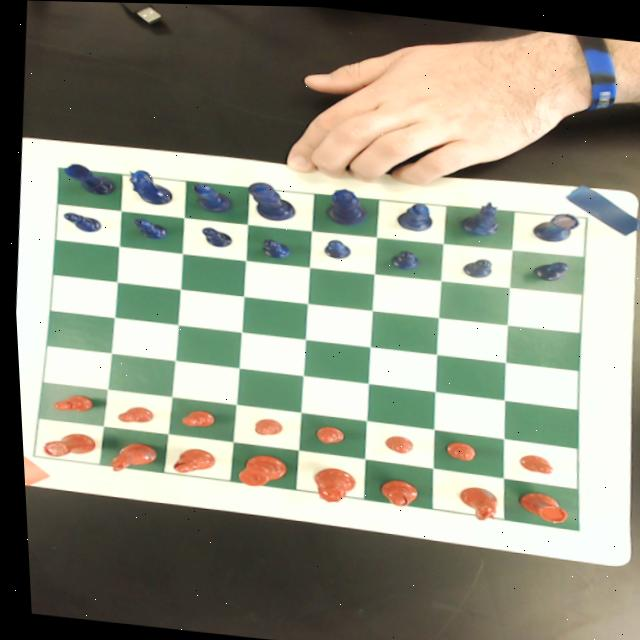B: (391, 197, 432, 230), (189, 179, 230, 211)
K: (243, 179, 295, 221)
N: (123, 166, 173, 205), (454, 195, 502, 235)
P: (528, 254, 569, 280), (57, 209, 101, 233), (456, 252, 493, 277), (127, 215, 167, 238), (384, 245, 419, 269), (197, 224, 232, 246), (317, 235, 350, 258), (257, 235, 289, 258)
Q: (321, 183, 367, 225)
R: (59, 160, 113, 195), (528, 206, 579, 241)
b: (165, 444, 213, 475), (373, 475, 416, 504)
k: (230, 450, 285, 487)
n: (101, 437, 153, 475), (452, 482, 494, 519)
p: (46, 390, 92, 413), (110, 402, 150, 424), (512, 450, 550, 472), (174, 406, 213, 427), (306, 422, 343, 444), (439, 437, 473, 459), (247, 414, 279, 436), (378, 431, 410, 452)
q: (306, 464, 353, 503)
r: (510, 486, 565, 522), (35, 428, 91, 459)
